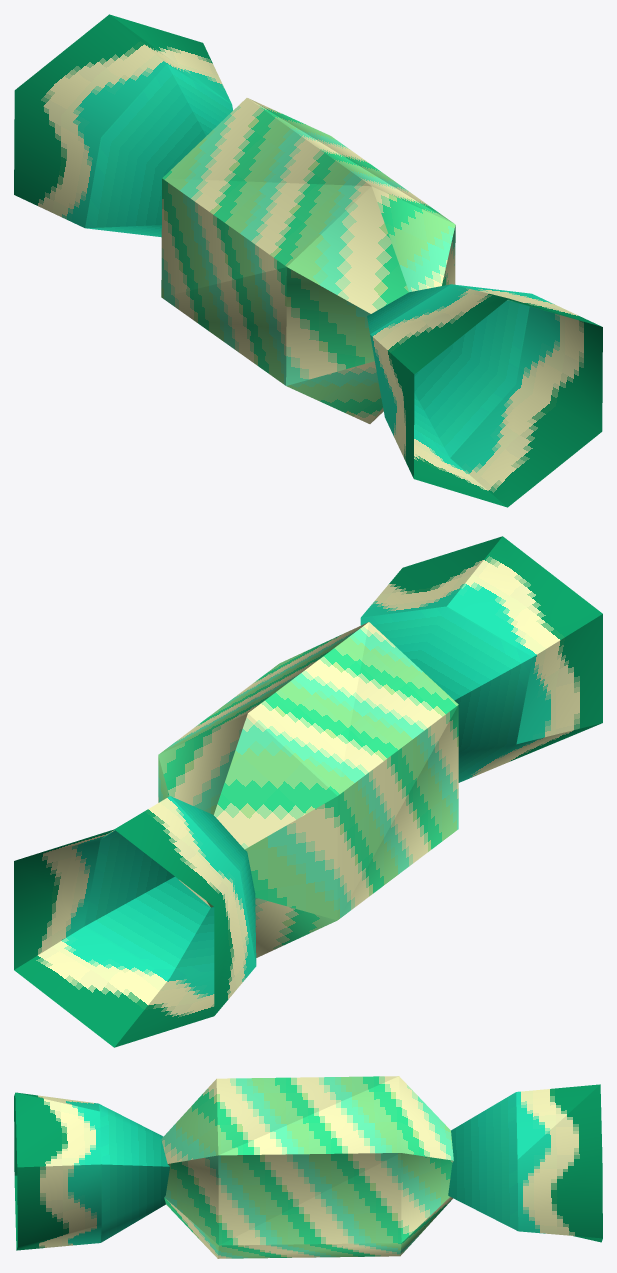
File: candy.fbx
The picture shows the model from 3 angles, top to bottom: view 1: azimuth 30°, elevation 25°; view 2: azimuth 150°, elevation 25°; view 3: azimuth 270°, elevation 25°; orthographic projection. The views are drawn at different scales.
Visible parts, largest first — view 1: Mesh_0100; view 2: Mesh_0100; view 3: Mesh_0100.
Boxes of the visible parts, x1,y1,x2,y2 form: Mesh_0100: (14,14,602,507); Mesh_0100: (14,536,602,1047); Mesh_0100: (14,1076,602,1258).
Size of the model in its own units: 11.31 by 12.71 by 37.37.
2 materials, 2 textured.
